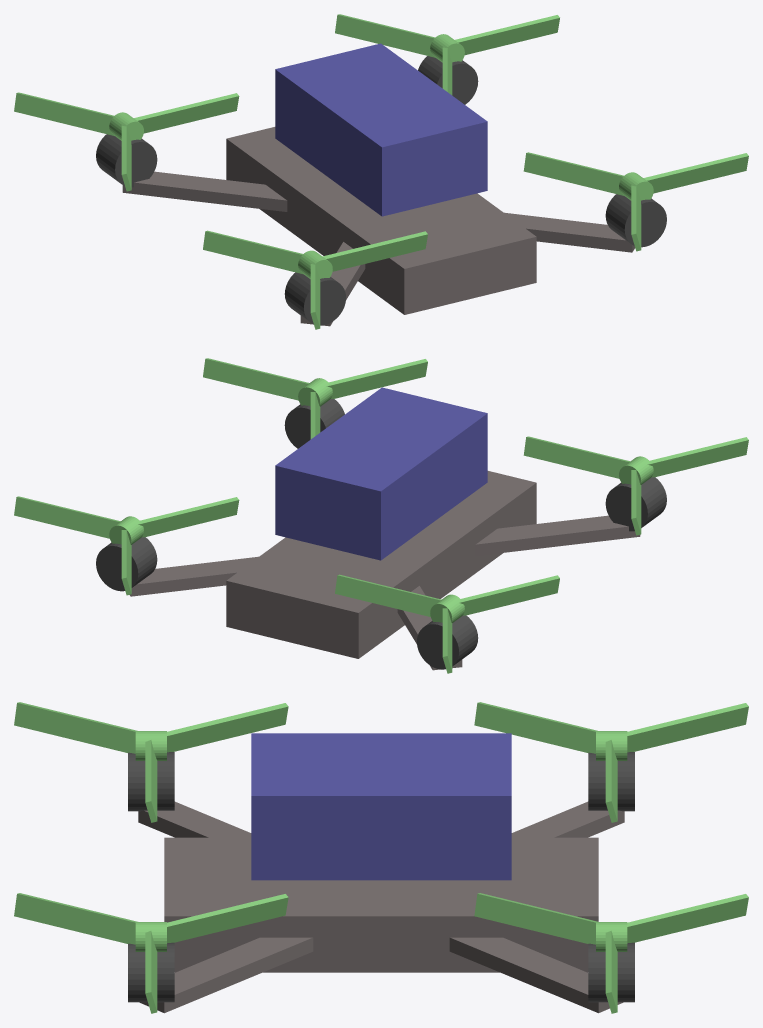
Rendered from Armattan Chameleon.glb.
3 renders of one model, top to bottom at view 1: azimuth 30°, elevation 25°; view 2: azimuth 150°, elevation 25°; view 3: azimuth 270°, elevation 25°, orthographic. The views are drawn at different scales.
Parts seen in each view (by area): view 1: battery, frame_body, prop_3, prop_2, prop_0, prop_1, arm_3, arm_0, motor_0, motor_2, motor_3, motor_1 (+1 smaller); view 2: battery, frame_body, prop_2, prop_1, prop_3, prop_0, arm_2, arm_1, motor_1, motor_3, motor_2, motor_0 (+1 smaller); view 3: battery, frame_body, prop_2, prop_3, prop_0, prop_1, arm_1, arm_0, arm_3, arm_2, motor_0, motor_1 (+2 smaller).
Boxes of the visible parts, <box> form: battery: <box>275,43,487,216</box>; frame_body: <box>226,127,536,314</box>; prop_3: <box>14,92,239,191</box>; prop_2: <box>203,230,427,329</box>; prop_0: <box>523,152,748,251</box>; prop_1: <box>335,14,559,95</box>; arm_3: <box>122,171,287,211</box>; arm_0: <box>504,212,634,252</box>; motor_0: <box>605,194,666,247</box>; motor_2: <box>284,272,345,325</box>; motor_3: <box>96,134,157,187</box>; motor_1: <box>418,56,478,104</box>; battery: <box>275,387,487,560</box>; frame_body: <box>226,471,536,658</box>; prop_2: <box>523,436,748,535</box>; prop_1: <box>14,496,239,595</box>; prop_3: <box>335,574,559,673</box>; prop_0: <box>203,358,427,439</box>; arm_2: <box>475,515,640,555</box>; arm_1: <box>130,556,258,596</box>; motor_1: <box>96,537,157,591</box>; motor_3: <box>417,615,478,669</box>; motor_2: <box>605,477,666,531</box>; motor_0: <box>284,399,344,448</box>; battery: <box>251,733,511,880</box>; frame_body: <box>164,837,598,972</box>; prop_2: <box>14,702,288,822</box>; prop_3: <box>474,702,748,822</box>; prop_0: <box>14,893,288,1013</box>; prop_1: <box>474,893,748,1013</box>; arm_1: <box>449,937,623,1013</box>; arm_0: <box>139,937,313,1013</box>; arm_3: <box>511,801,624,837</box>; arm_2: <box>138,801,251,837</box>; motor_0: <box>128,942,174,1002</box>; motor_1: <box>588,942,634,1002</box>.
Bounding box in the file's own units: 0.2223 × 0.06 × 0.2369.
